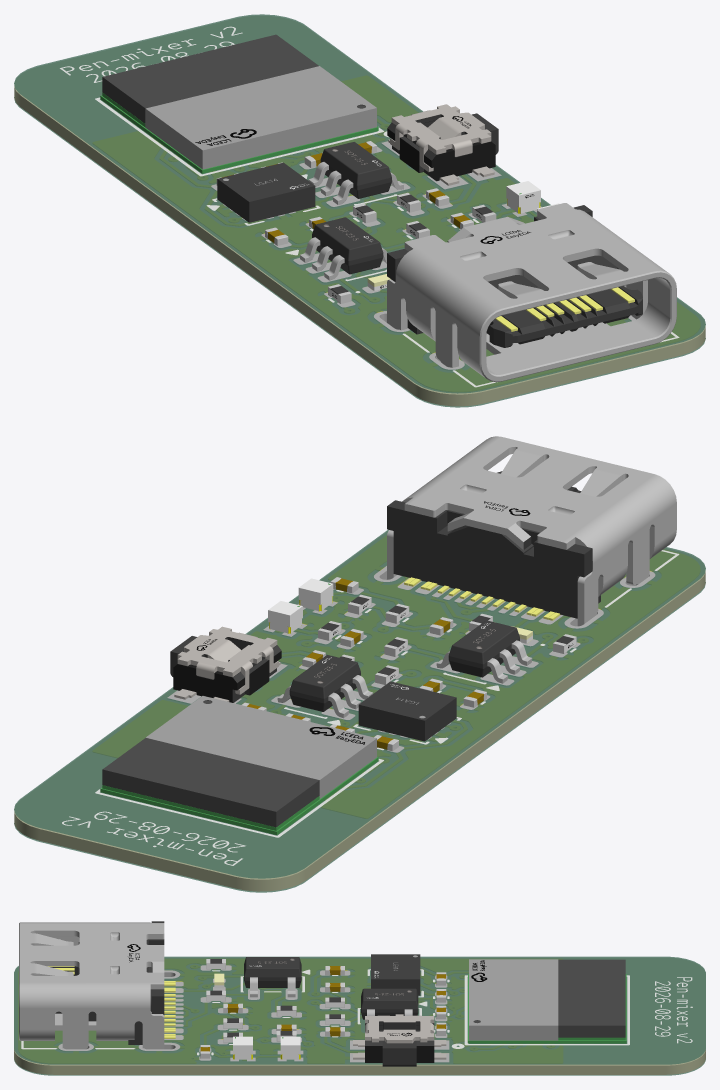
Rendered from pen-mixer.glb.
The picture shows the model from 3 angles, top to bottom: view 1: azimuth 30°, elevation 25°; view 2: azimuth 150°, elevation 25°; view 3: azimuth 270°, elevation 25°; orthographic projection. The views are drawn at different scales.
Parts seen in each view (by area): view 1: =>[0:1:1:24], =>[0:1:1:13], =>[0:1:1:26], =>[0:1:1:19], =>[0:1:1:20], =>[0:1:1:7] (×2), =>[0:1:1:11], =>[0:1:1:17], =>[0:1:1:21], =>[0:1:1:23], =>[0:1:1:25], =>[0:1:1:15]; view 2: =>[0:1:1:24], =>[0:1:1:13], =>[0:1:1:26], =>[0:1:1:19], =>[0:1:1:20], =>[0:1:1:7] (×2), =>[0:1:1:11], =>[0:1:1:21], =>[0:1:1:17], =>[0:1:1:23], =>[0:1:1:15] (×2), =>[0:1:1:25]; view 3: =>[0:1:1:24], =>[0:1:1:26], =>[0:1:1:13], =>[0:1:1:19], =>[0:1:1:20], =>[0:1:1:11], =>[0:1:1:7] (×2), =>[0:1:1:21], =>[0:1:1:23], =>[0:1:1:17], =>[0:1:1:15] (×2), =>[0:1:1:25].
Boxes of the visible parts, x1,y1,x2,y2 form: =>[0:1:1:24]: (14,14,705,393); =>[0:1:1:13]: (387,203,676,382); =>[0:1:1:26]: (14,16,705,406); =>[0:1:1:19]: (100,34,378,173); =>[0:1:1:20]: (93,76,699,391); =>[0:1:1:7] (×2): (300,142,403,280); =>[0:1:1:11]: (387,104,498,185); =>[0:1:1:17]: (217,162,315,222); =>[0:1:1:21]: (211,141,636,370); =>[0:1:1:23]: (60,26,679,387); =>[0:1:1:25]: (14,97,705,407); =>[0:1:1:15]: (506,181,540,213); =>[0:1:1:24]: (14,529,705,878); =>[0:1:1:13]: (387,436,676,626); =>[0:1:1:26]: (14,532,705,891); =>[0:1:1:19]: (100,696,378,834); =>[0:1:1:20]: (93,536,699,818); =>[0:1:1:7] (×2): (277,620,532,718); =>[0:1:1:11]: (170,626,281,702); =>[0:1:1:21]: (167,566,655,752); =>[0:1:1:17]: (358,681,456,741); =>[0:1:1:23]: (62,550,679,865); =>[0:1:1:15] (×2): (268,578,333,633); =>[0:1:1:25]: (14,582,705,892); =>[0:1:1:24]: (14,956,705,1064); =>[0:1:1:26]: (14,958,705,1074); =>[0:1:1:13]: (19,921,175,1049); =>[0:1:1:19]: (468,959,626,1043); =>[0:1:1:20]: (18,959,562,1063); =>[0:1:1:11]: (353,1014,446,1066); =>[0:1:1:7] (×2): (244,957,418,1019); =>[0:1:1:21]: (58,965,449,1062); =>[0:1:1:23]: (21,969,692,1055); =>[0:1:1:17]: (371,954,420,995); =>[0:1:1:15] (×2): (233,1036,300,1059); =>[0:1:1:25]: (14,1059,705,1075).
Bounding box in the file's own units: 0.0134 × 0.00466 × 0.0349.
